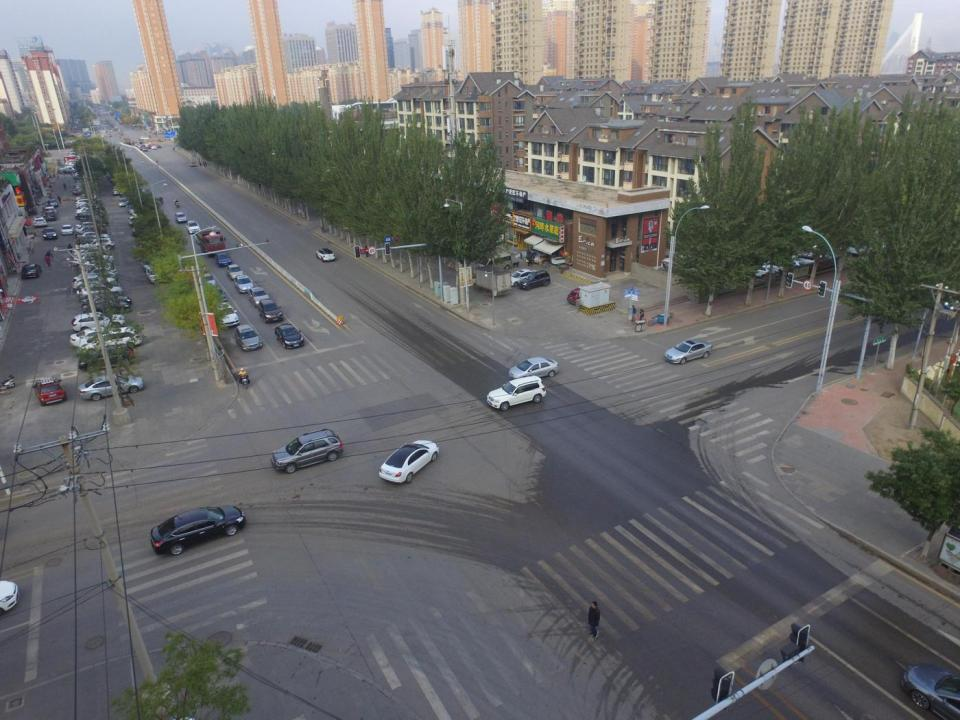car: (150, 503, 244, 557), (901, 662, 960, 719), (270, 430, 342, 472), (378, 438, 439, 484), (488, 378, 545, 411), (78, 374, 144, 400), (82, 327, 141, 355), (78, 344, 132, 373), (69, 325, 126, 350), (508, 356, 560, 383), (665, 339, 712, 365), (72, 313, 123, 333), (33, 378, 68, 405), (78, 282, 122, 302), (274, 322, 303, 350), (236, 324, 264, 352), (764, 256, 806, 274), (83, 300, 130, 316), (70, 275, 117, 291), (82, 294, 131, 308), (518, 270, 550, 291), (788, 250, 823, 268), (256, 298, 282, 322), (746, 261, 780, 279), (213, 304, 239, 326), (567, 286, 596, 305), (202, 286, 227, 306), (248, 288, 271, 308), (146, 266, 168, 285), (233, 276, 254, 294), (196, 272, 215, 290), (21, 262, 39, 280), (315, 248, 336, 262), (226, 264, 244, 280), (214, 252, 232, 268), (42, 227, 58, 241), (186, 220, 200, 235), (142, 259, 156, 272), (60, 224, 73, 237), (125, 204, 138, 217), (44, 205, 56, 217), (176, 212, 187, 224), (128, 215, 140, 226), (34, 217, 46, 227), (112, 185, 123, 195), (45, 210, 56, 220), (117, 198, 128, 207), (47, 199, 58, 208), (190, 160, 196, 166)
truck: (198, 229, 226, 258), (648, 312, 670, 326)
van: (478, 251, 511, 276)
